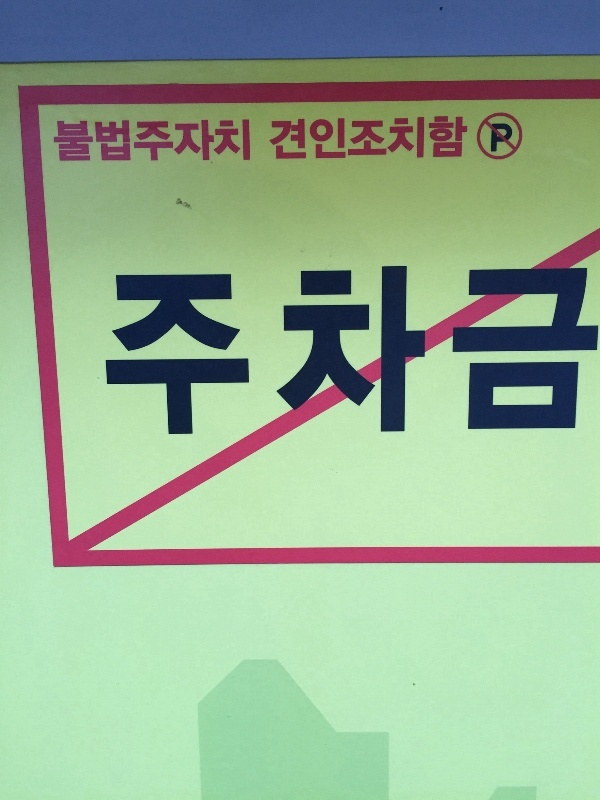text: (113, 239, 128, 455), (129, 239, 144, 455), (145, 239, 160, 455), (161, 239, 176, 455), (177, 239, 192, 455), (193, 239, 208, 455), (209, 239, 224, 455), (225, 239, 240, 455), (241, 239, 256, 455), (257, 239, 272, 455), (273, 239, 288, 455), (289, 239, 304, 455), (305, 239, 320, 455), (321, 239, 336, 455), (337, 239, 352, 455), (353, 239, 368, 455), (369, 239, 384, 455), (385, 239, 400, 455), (401, 239, 416, 455), (417, 239, 432, 455), (433, 239, 448, 455), (449, 239, 464, 455), (465, 239, 480, 455), (481, 239, 496, 455), (497, 239, 512, 455), (513, 239, 528, 455), (529, 239, 544, 455), (545, 239, 560, 455), (561, 239, 576, 455), (577, 239, 592, 455), (104, 239, 112, 455), (593, 239, 598, 455), (481, 102, 496, 172), (497, 102, 512, 172), (513, 102, 528, 172), (65, 109, 80, 175), (81, 109, 96, 175), (97, 109, 112, 175), (113, 109, 128, 175), (129, 109, 144, 175), (145, 109, 160, 175), (161, 109, 176, 175), (177, 109, 192, 175), (193, 109, 208, 175), (209, 109, 224, 175), (225, 109, 240, 175), (273, 109, 288, 174), (289, 109, 304, 174), (305, 109, 320, 174), (321, 109, 336, 174), (337, 109, 352, 174), (353, 109, 368, 174), (369, 109, 384, 174), (385, 109, 400, 174), (401, 109, 416, 174), (417, 109, 432, 174), (433, 109, 448, 174), (449, 109, 464, 174), (241, 109, 255, 175), (52, 109, 64, 175), (465, 109, 474, 174), (267, 109, 272, 174), (477, 102, 480, 172)
